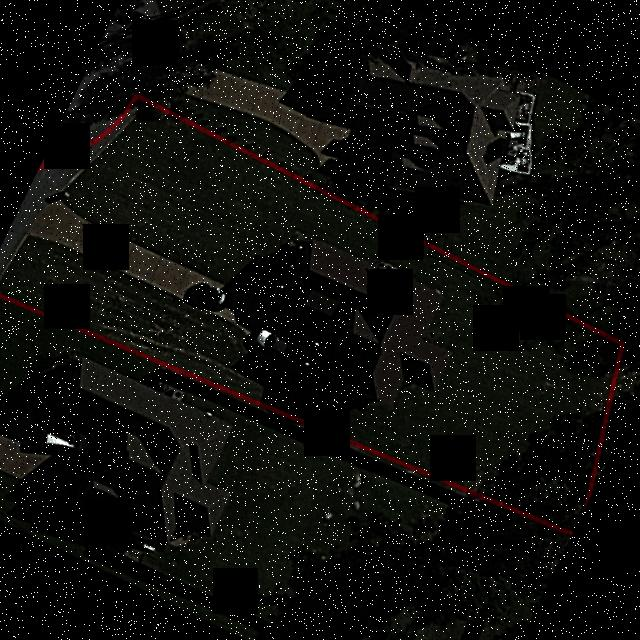Driveway: (30, 201, 331, 368)
House: (280, 235, 454, 408)
